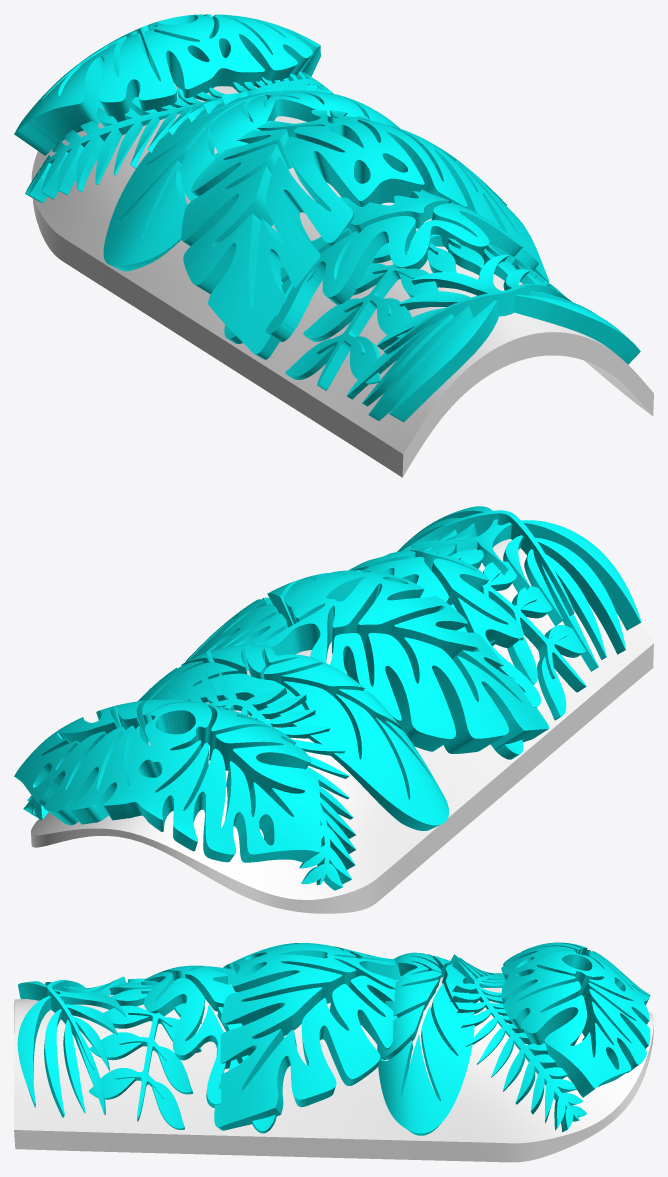
The model's file is jungle-square-full.glb.
The picture shows the model from 3 angles, top to bottom: view 1: azimuth 30°, elevation 25°; view 2: azimuth 150°, elevation 25°; view 3: azimuth 270°, elevation 25°; orthographic projection. The views are drawn at different scales.
Bounding box in the file's own units: 0.0147 × 0.00766 × 0.0301.
